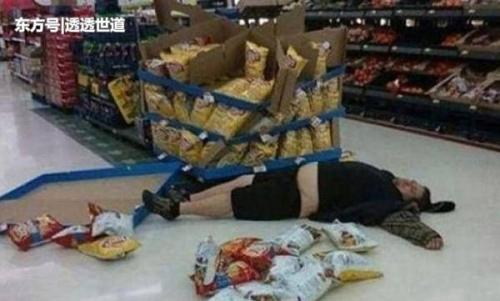fall: (136, 147, 464, 246)
